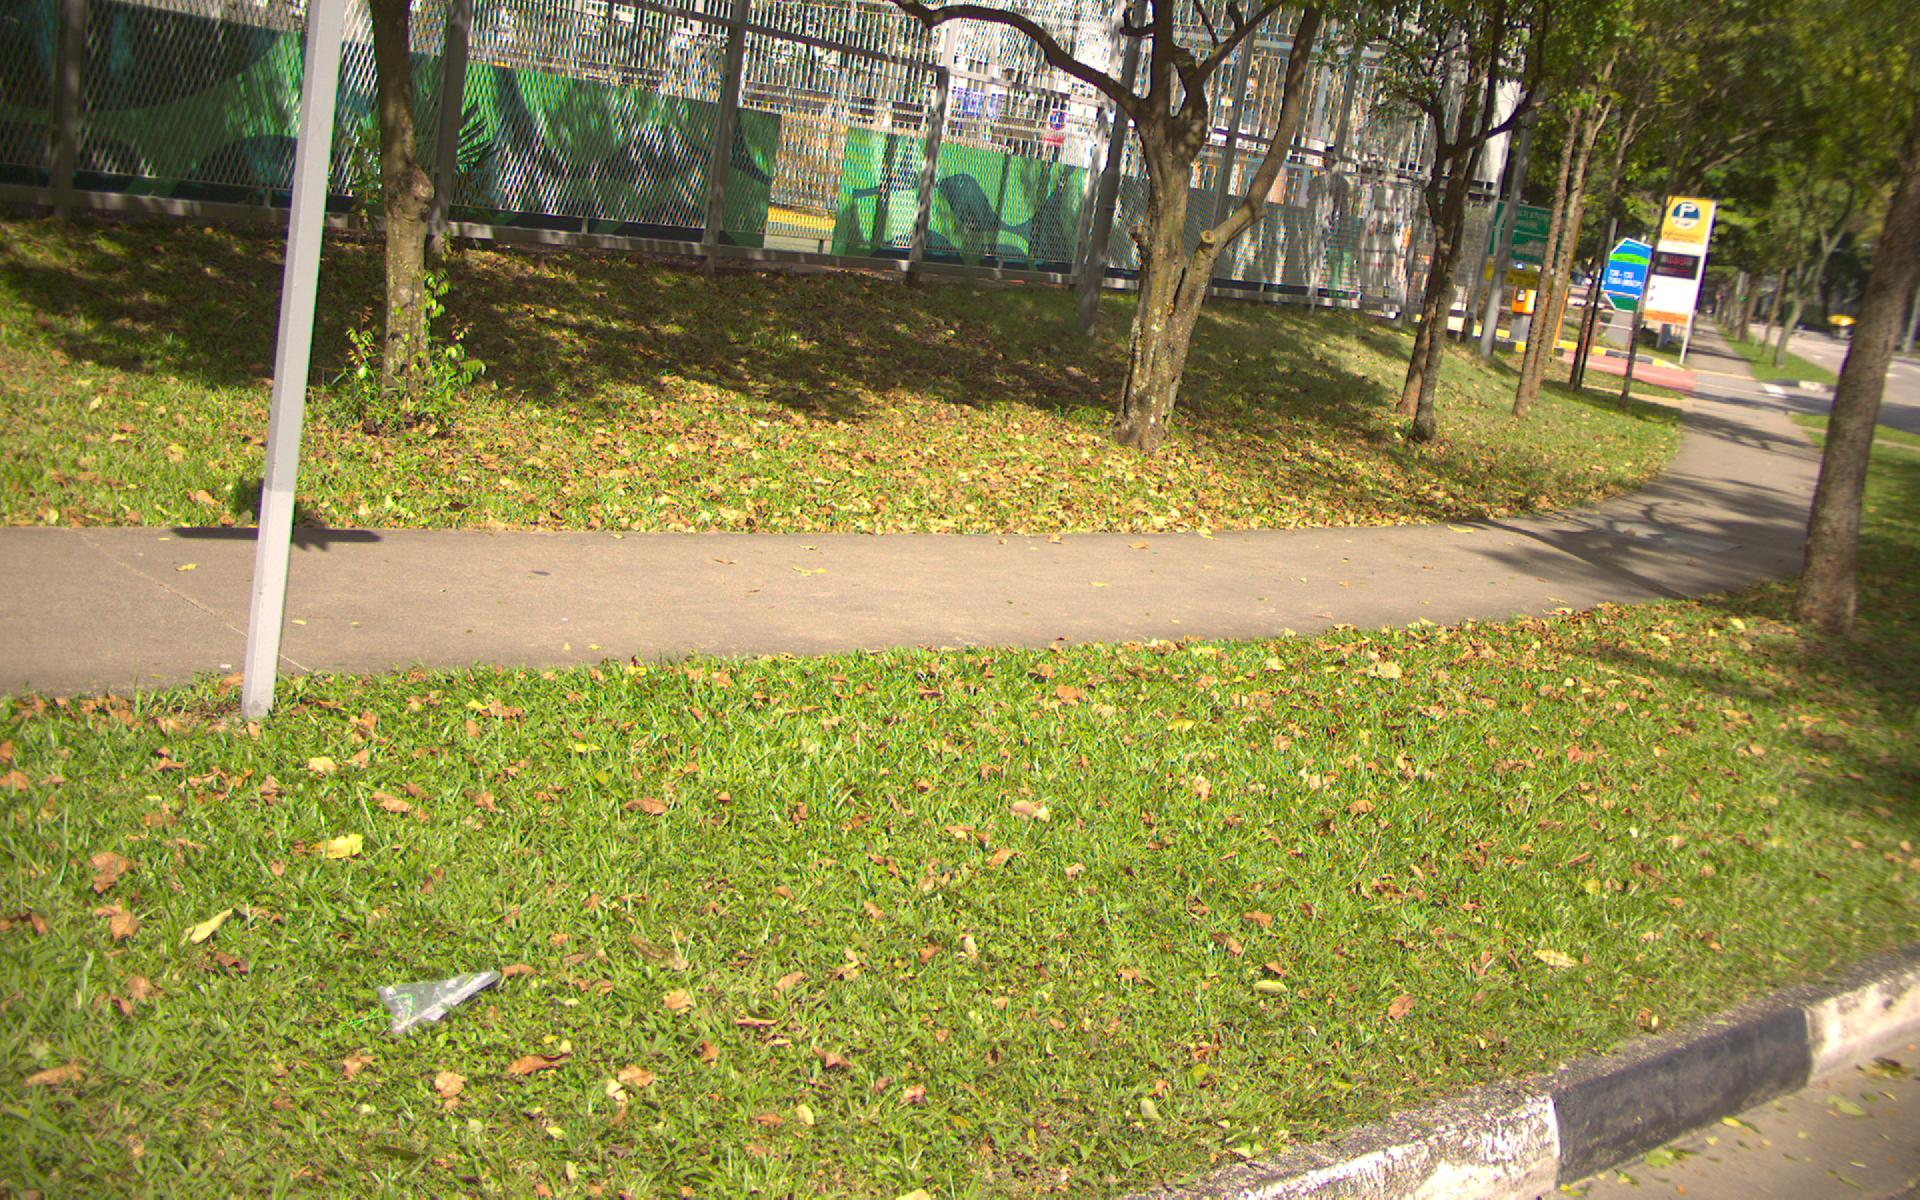pathway_low: (6, 527, 1154, 641)
road_turf_low: (10, 713, 1104, 1192), (8, 260, 769, 523), (800, 314, 1400, 514)
